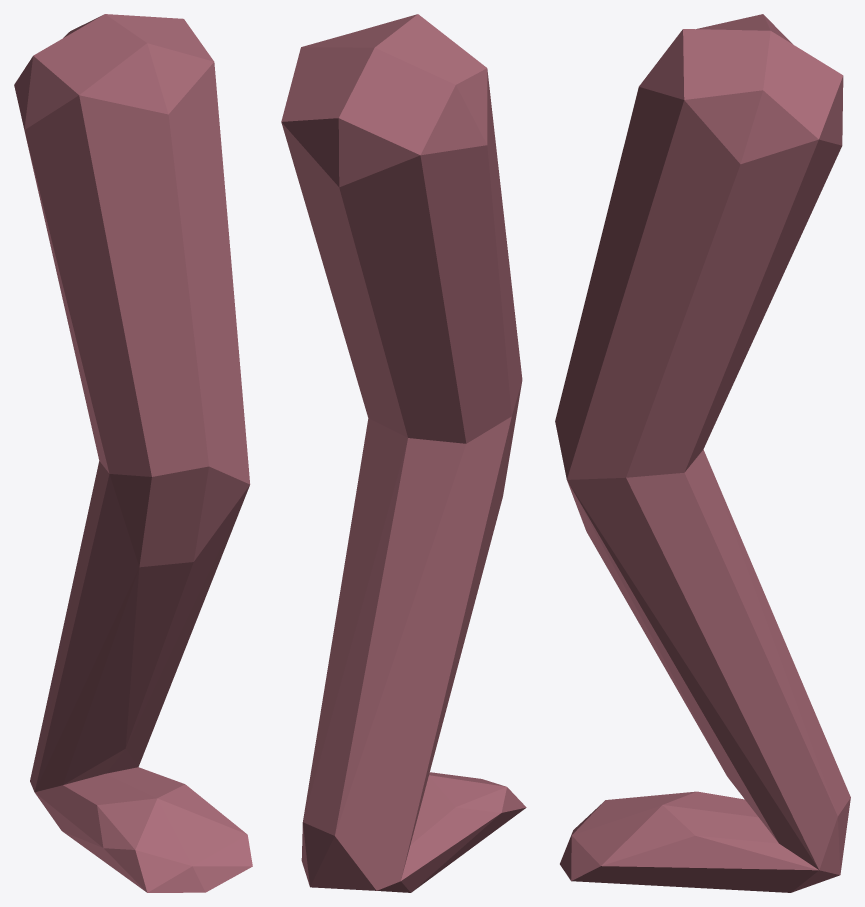
File: leg3.fbx
The picture shows the model from 3 angles, left to right: view 1: azimuth 30°, elevation 25°; view 2: azimuth 150°, elevation 25°; view 3: azimuth 270°, elevation 25°; orthographic projection. The views are drawn at different scales.
Visible parts, largest first — view 1: Plane; view 2: Plane; view 3: Plane.
Boxes of the visible parts, x1,y1,x2,y2 form: Plane: (14, 14, 252, 892); Plane: (281, 14, 526, 892); Plane: (555, 14, 850, 892).
Size of the model in its own units: 104 by 427 by 135.
